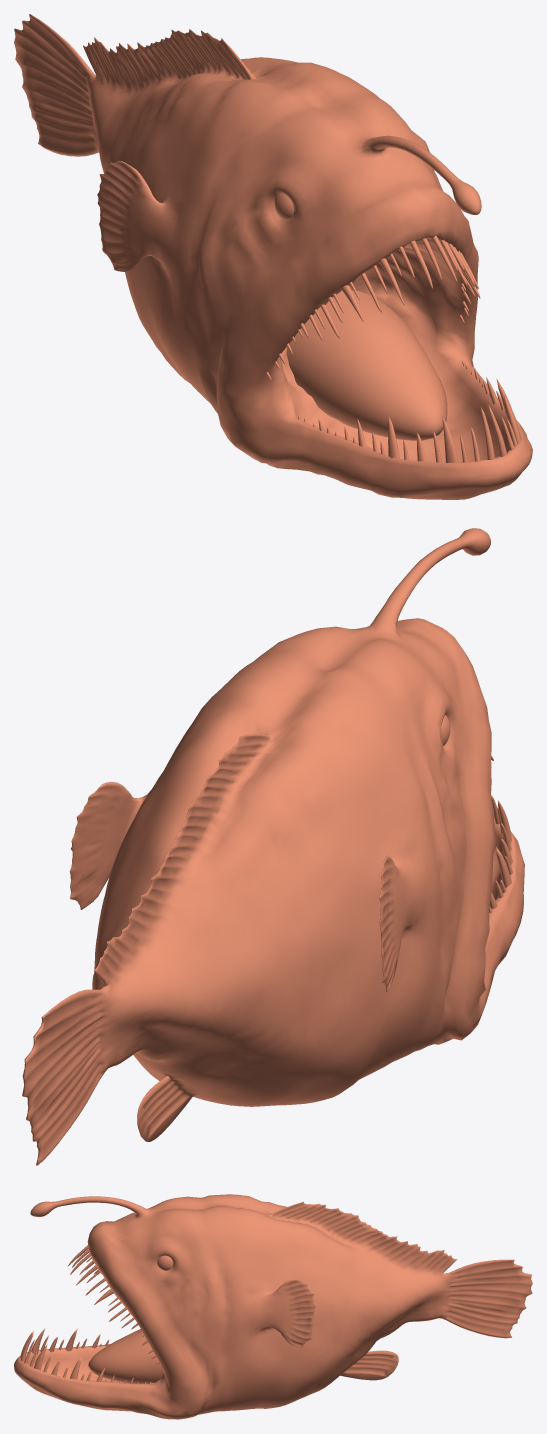
File: Angler_Fish.fbx
3 views of the same model, one above another, from view 1: azimuth 30°, elevation 25°; view 2: azimuth 150°, elevation 25°; view 3: azimuth 270°, elevation 25° (orthographic). The views are drawn at different scales.
Parts seen in each view (by area): view 1: angler_fish; view 2: angler_fish; view 3: angler_fish.
Boxes of the visible parts, x1,y1,x2,y2 form: angler_fish: (14, 14, 532, 499); angler_fish: (22, 528, 524, 1165); angler_fish: (14, 1194, 532, 1419).
Size of the model in its own units: 459 by 561 by 1294.
